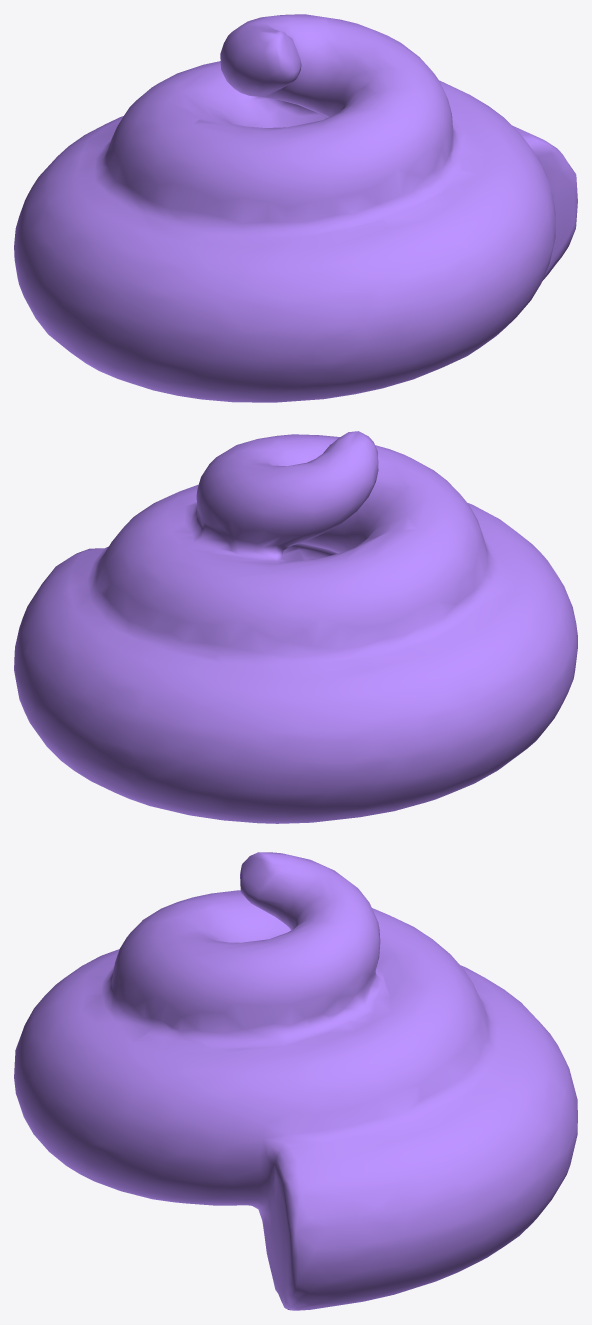
The model's file is guss-lila.glb.
3 renders of one model, top to bottom at view 1: azimuth 30°, elevation 25°; view 2: azimuth 150°, elevation 25°; view 3: azimuth 270°, elevation 25°, orthographic. The views are drawn at different scales.
Visible parts, largest first — view 1: p0; view 2: p0; view 3: p0.
Part boxes in pixels (x1=…): p0: x1=14, y1=14, x2=577, y2=402; p0: x1=14, y1=431, x2=577, y2=823; p0: x1=14, y1=852, x2=577, y2=1310.
Bounding box in the file's own units: 0.028 × 0.0171 × 0.0262.
